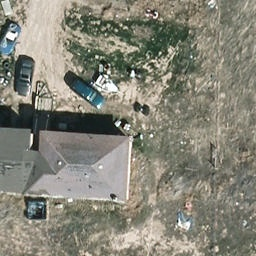car: (70, 78, 106, 110), (12, 58, 34, 97), (1, 22, 22, 56)
